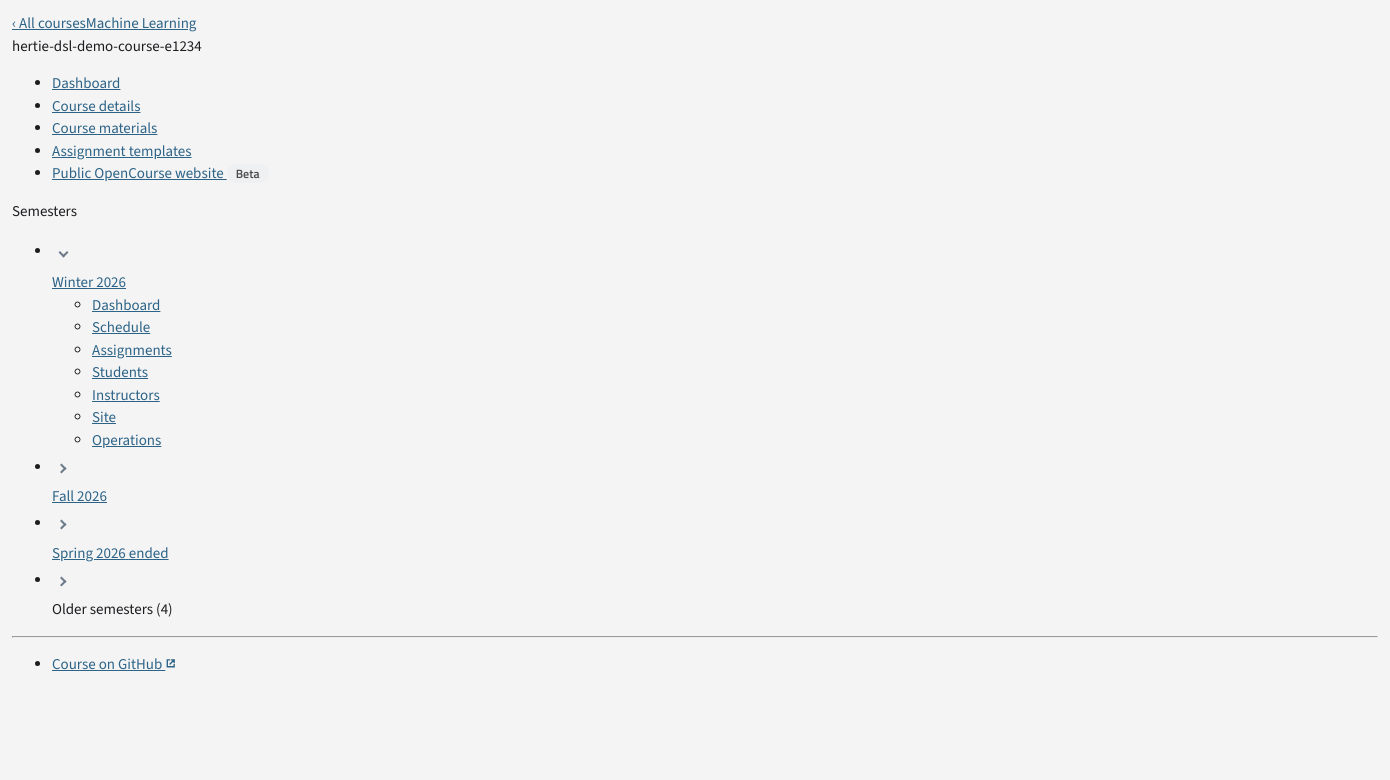
Test: the instructor tree › with six, puts every live one first, fills to three rows, folds the rest, and opens the fold on a folded semester
Click the button named "Show the older semesters". click: (63, 581)
box: [52,564,74,598]
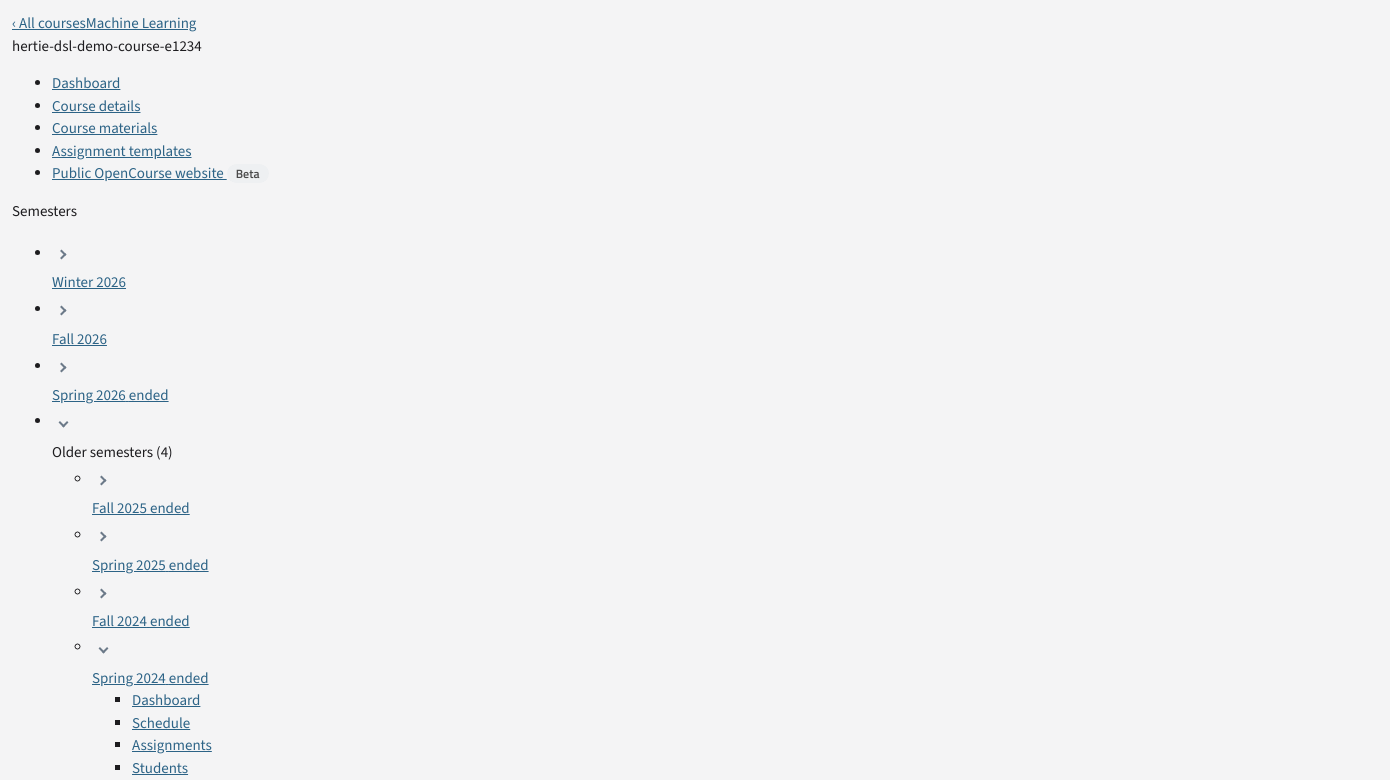
Expected: the link "Schedule" is shown, [132,712,190,732]
